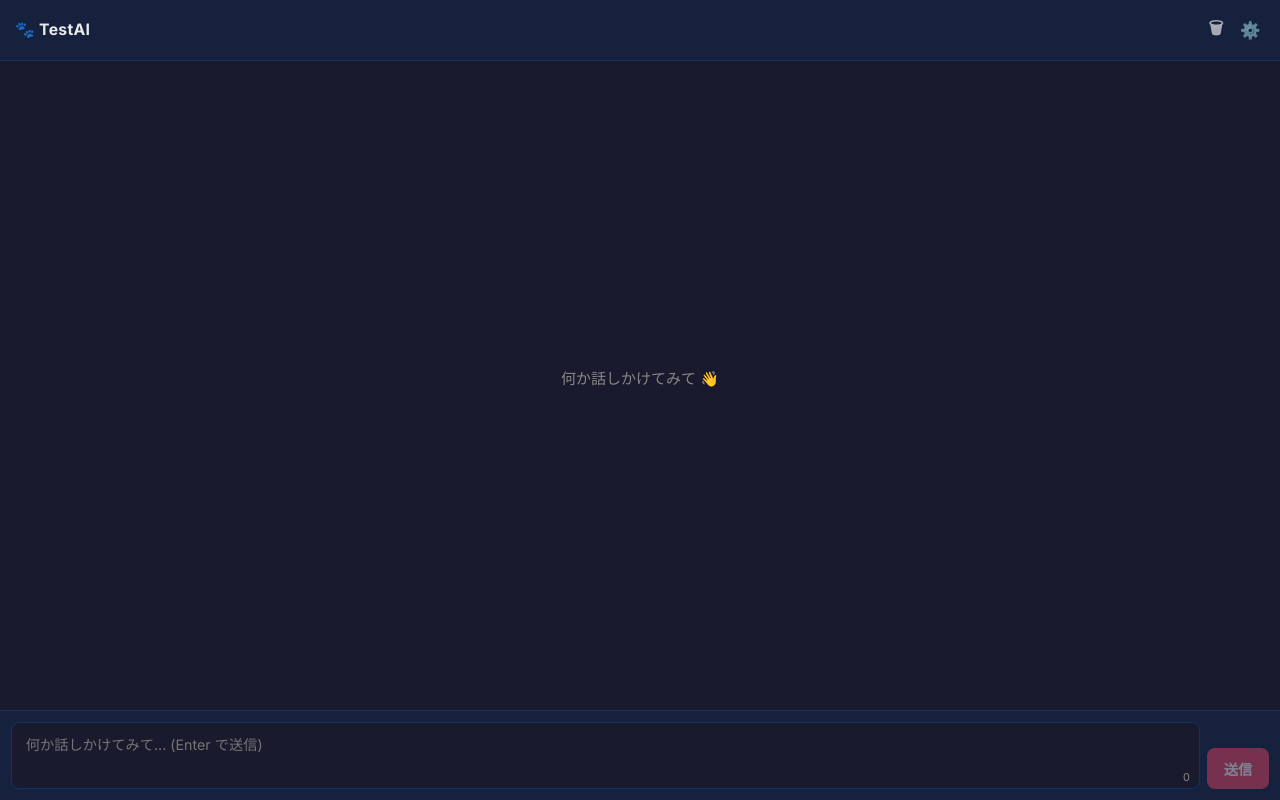
it: Stop button › hides textarea while thinking
The width and height of the screenshot is (1280, 800).
Type "hello" into the text box with placeholder "何か話しかけてみて... (Enter で送信)" at (606, 755), box left=11, top=722, right=1200, bottom=789
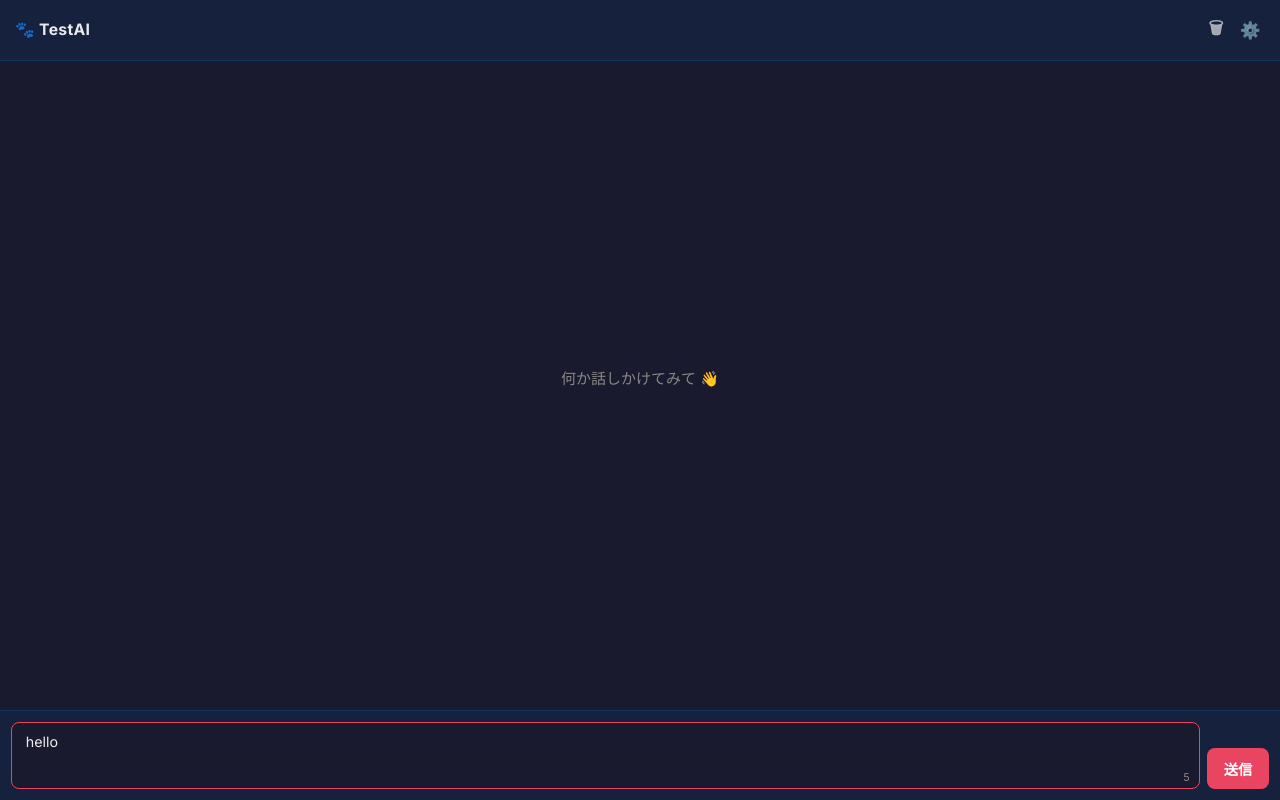
Click the button "送信" at (1238, 769), box left=1207, top=748, right=1269, bottom=789
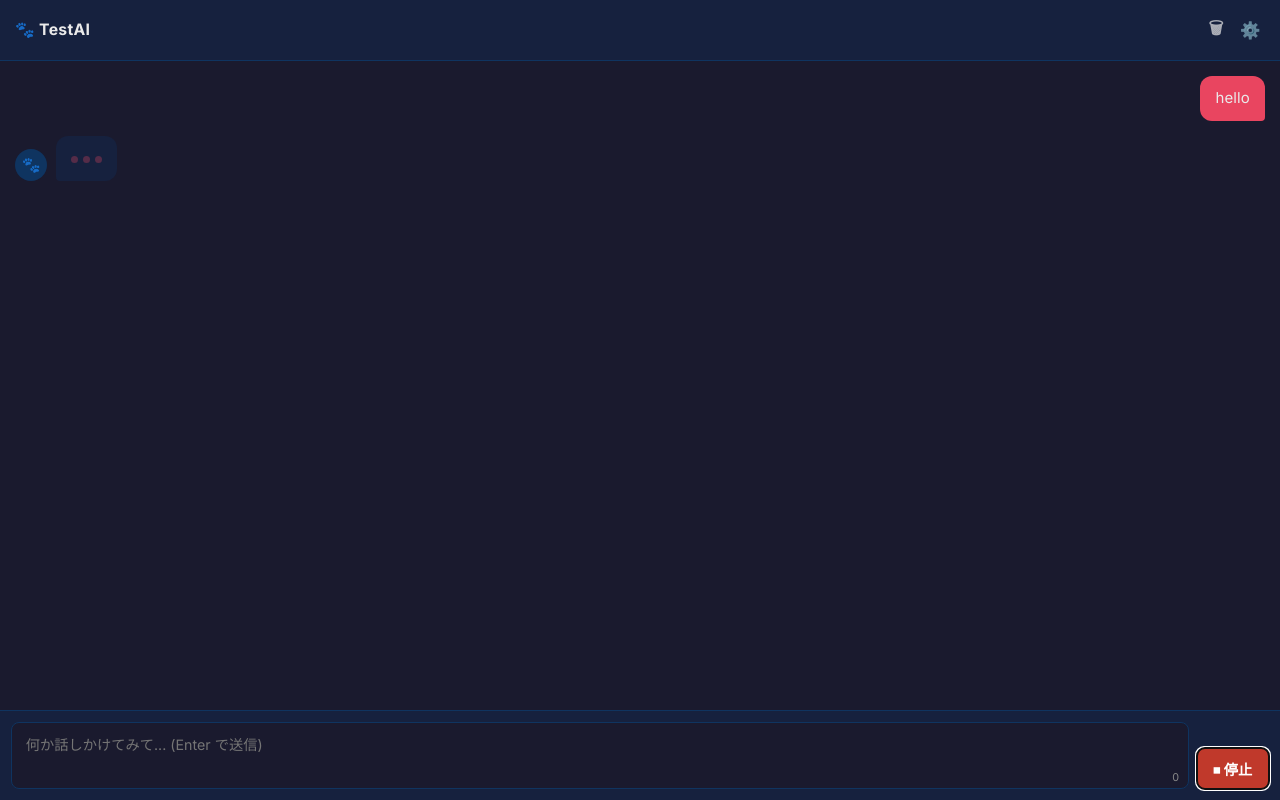
Expected: the button "⏹ 停止" is shown, left=1196, top=748, right=1269, bottom=789
